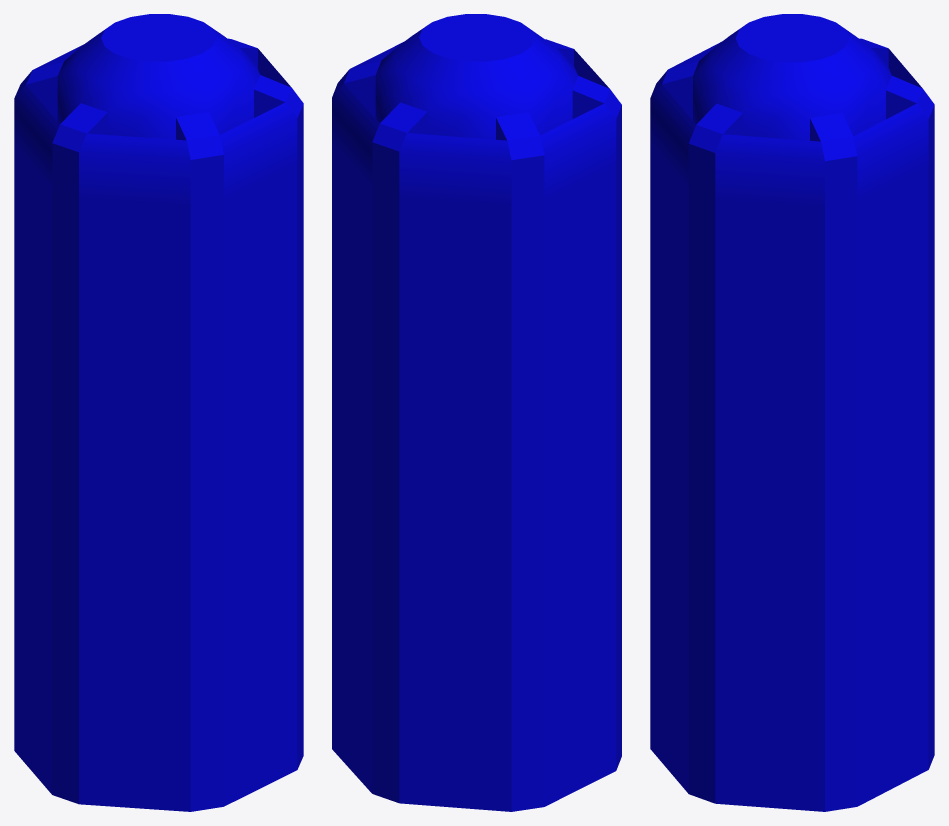
Rendered from markerCap.fbx.
3 views of the same model, side by side, from view 1: azimuth 30°, elevation 25°; view 2: azimuth 150°, elevation 25°; view 3: azimuth 270°, elevation 25° (orthographic).
Visible parts, largest first — view 1: markerCap; view 2: markerCap; view 3: markerCap.
Part boxes in pixels (left/top/right/bottom): markerCap: left=14, top=14, right=303, bottom=811; markerCap: left=332, top=14, right=621, bottom=811; markerCap: left=650, top=14, right=934, bottom=811.
Bounding box in the file's own units: 3.46 × 9.6 × 3.46.
